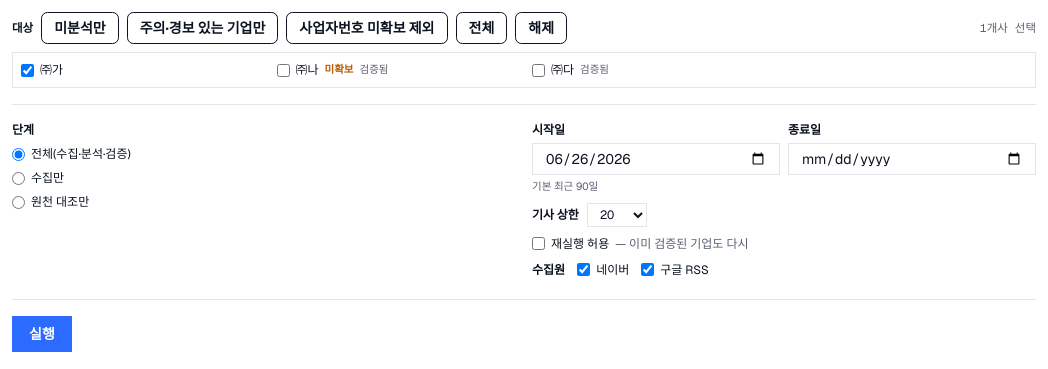
BatchRunner › a rejected start request hands the 실행 button back with the reason
Click the button "실행": (42, 334) x1=12 y1=316 x2=72 y2=352
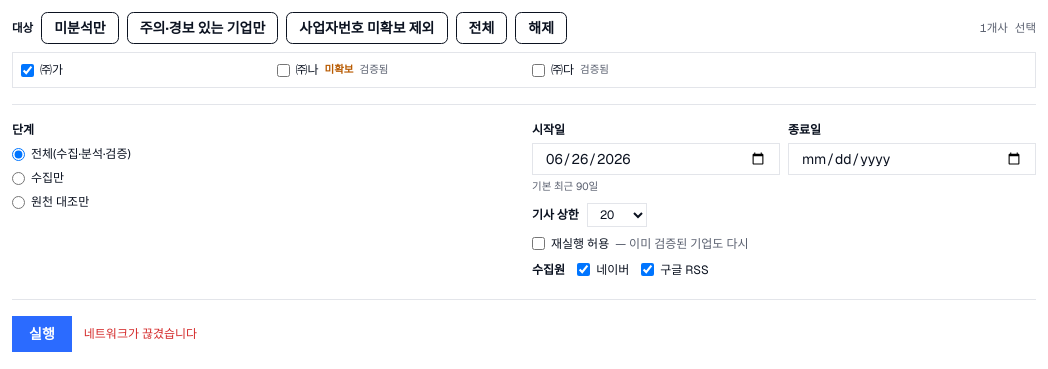
Check: the message reads "네트워크가 끊겼습니다", box x1=84 y1=326 x2=197 y2=342
